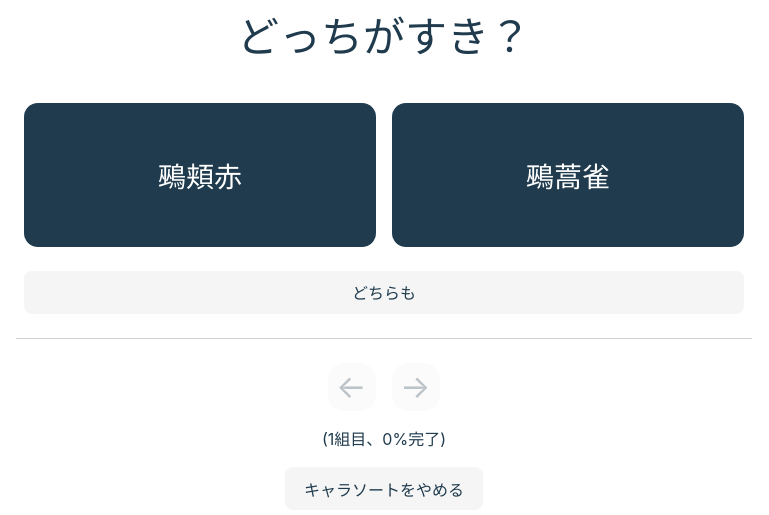
Scenario: キャラ選択、諸情報 › キャラB
Expected: the text "(1組目、0%完了)" is shown, x1=322 y1=427 x2=446 y2=451
Click the button "鵐蒿雀": (568, 175) x1=392 y1=103 x2=744 y2=247
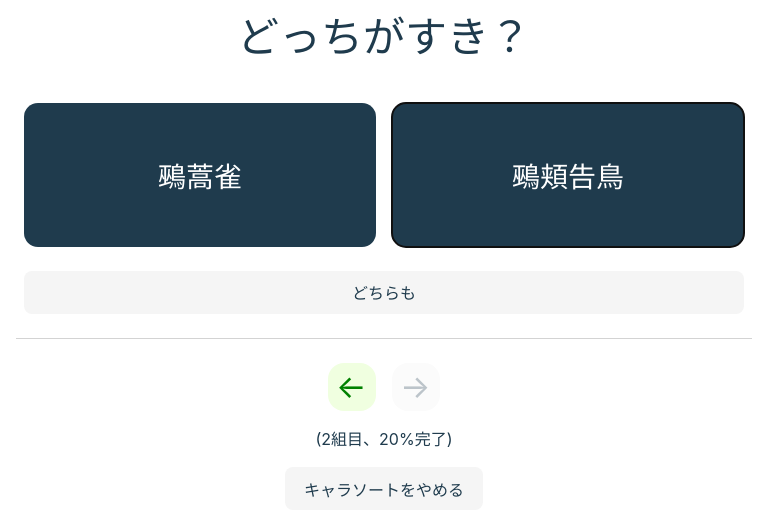
Expected: the text "(2組目、20%完了)" is shown, x1=316 y1=427 x2=452 y2=451
Expected: the button "鵐蒿雀" is shown, x1=24 y1=103 x2=376 y2=247
Expected: the button "鵐頬告鳥" is shown, x1=392 y1=103 x2=744 y2=247
